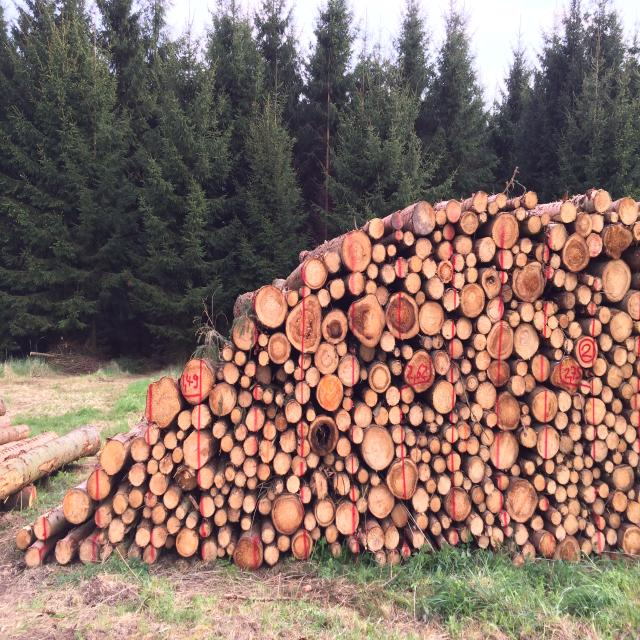wood-log: (285, 292, 322, 351), (349, 291, 386, 348), (148, 375, 185, 427), (182, 357, 218, 403), (361, 426, 396, 472), (388, 290, 421, 338), (506, 478, 540, 522), (256, 287, 290, 330), (404, 352, 438, 394), (385, 458, 420, 498), (232, 532, 266, 572), (272, 494, 305, 534), (601, 260, 632, 302), (342, 230, 372, 272), (490, 432, 520, 471), (496, 392, 524, 432), (551, 358, 583, 393), (605, 222, 635, 258), (491, 213, 520, 250), (182, 431, 210, 469), (63, 488, 92, 524), (99, 439, 128, 475), (316, 375, 345, 411), (562, 236, 589, 274), (488, 322, 514, 361), (418, 300, 445, 336), (209, 382, 238, 415), (368, 484, 396, 518), (444, 487, 472, 521), (459, 284, 486, 318), (514, 326, 541, 360), (431, 380, 457, 414), (413, 201, 438, 235), (233, 318, 258, 352), (302, 258, 328, 290), (338, 353, 364, 385), (574, 335, 599, 368), (336, 502, 360, 536), (530, 389, 554, 423), (88, 469, 113, 501), (508, 525, 533, 556), (315, 342, 339, 373), (291, 530, 314, 562), (532, 526, 555, 558), (486, 358, 512, 386), (175, 526, 199, 556), (364, 520, 385, 554), (269, 334, 292, 365), (611, 309, 634, 340), (314, 496, 335, 528), (173, 466, 198, 492), (548, 222, 571, 250), (371, 362, 392, 392), (476, 381, 498, 409), (389, 500, 410, 529), (585, 398, 606, 427), (530, 351, 550, 381), (613, 466, 636, 492), (618, 197, 640, 224), (621, 525, 640, 556), (465, 454, 486, 482), (201, 536, 222, 564), (558, 534, 580, 560), (619, 376, 640, 402), (193, 406, 213, 432), (96, 501, 116, 527), (477, 238, 498, 262), (111, 518, 129, 546), (247, 407, 267, 432), (593, 188, 612, 214), (145, 527, 167, 549), (131, 438, 150, 463), (198, 466, 216, 492), (466, 514, 484, 540), (511, 376, 533, 397), (348, 273, 368, 296), (560, 200, 580, 223), (460, 211, 480, 234), (153, 525, 173, 548), (563, 511, 582, 535), (625, 290, 640, 320), (56, 540, 74, 565), (335, 408, 352, 434), (149, 474, 169, 496), (220, 363, 240, 385), (589, 441, 609, 463), (556, 271, 578, 291), (455, 317, 474, 339), (322, 525, 340, 548), (274, 453, 292, 476), (164, 488, 183, 509), (612, 490, 630, 512), (130, 465, 148, 487), (405, 272, 423, 294), (285, 402, 303, 424), (448, 199, 464, 223), (369, 220, 387, 241), (380, 332, 398, 353), (136, 523, 152, 546), (628, 439, 640, 469), (496, 252, 514, 272), (630, 392, 640, 428), (514, 522, 530, 544), (629, 490, 640, 522), (382, 262, 397, 285), (262, 523, 279, 543), (620, 488, 637, 508), (526, 213, 542, 234), (198, 516, 214, 537), (448, 340, 465, 359), (331, 278, 346, 298), (627, 503, 640, 526), (386, 387, 400, 408), (629, 245, 640, 271), (307, 368, 322, 387), (520, 460, 537, 476), (214, 509, 229, 527), (318, 288, 332, 307), (220, 436, 235, 453), (375, 243, 389, 261), (267, 547, 281, 565), (532, 475, 546, 493), (588, 318, 602, 336), (530, 515, 546, 530), (429, 494, 441, 513), (597, 482, 611, 498), (625, 334, 640, 348), (278, 534, 291, 550), (144, 459, 156, 476), (147, 457, 159, 473), (630, 336, 640, 355), (602, 458, 615, 472), (634, 220, 640, 244), (632, 485, 640, 501)
